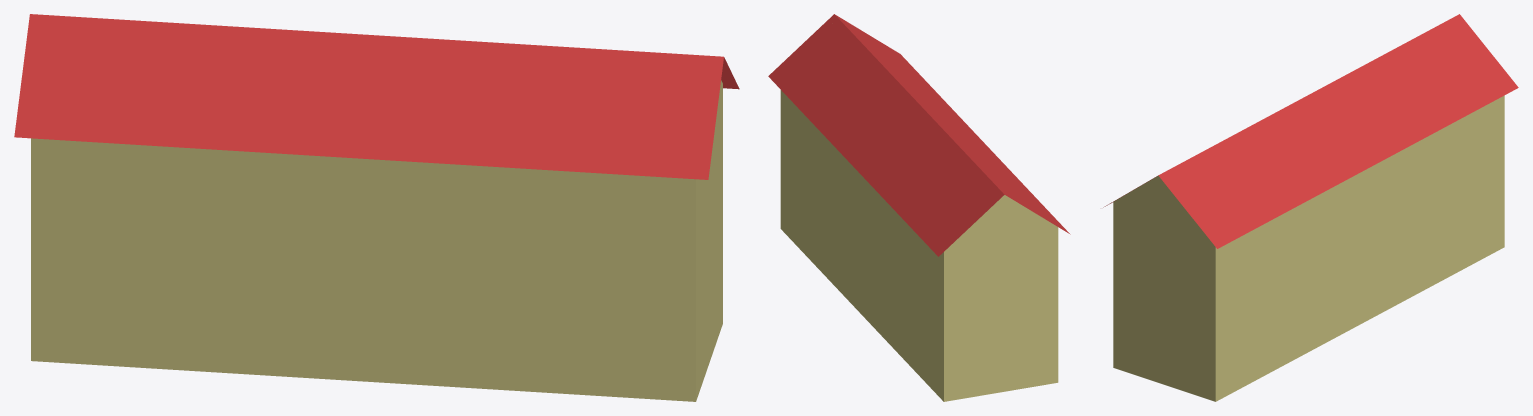
3 renders of one model, left to right at view 1: azimuth 30°, elevation 25°; view 2: azimuth 150°, elevation 25°; view 3: azimuth 270°, elevation 25°, orthographic. The views are drawn at different scales.
Visible parts, largest first — view 1: group_5, group_3; view 2: group_5, group_3, group_4; view 3: group_5, group_3, group_4.
Part boxes in pixels (box(x1,y1,x2,y2)): group_5: box(31, 80, 722, 401); group_3: box(14, 15, 738, 179); group_5: box(780, 90, 1058, 401); group_3: box(768, 14, 1070, 253); group_4: box(769, 14, 1016, 256); group_5: box(1113, 95, 1504, 401); group_3: box(1159, 14, 1511, 248); group_4: box(1103, 15, 1518, 247).
Size of the model in its own units: 35.04 by 30.94 by 17.32.
